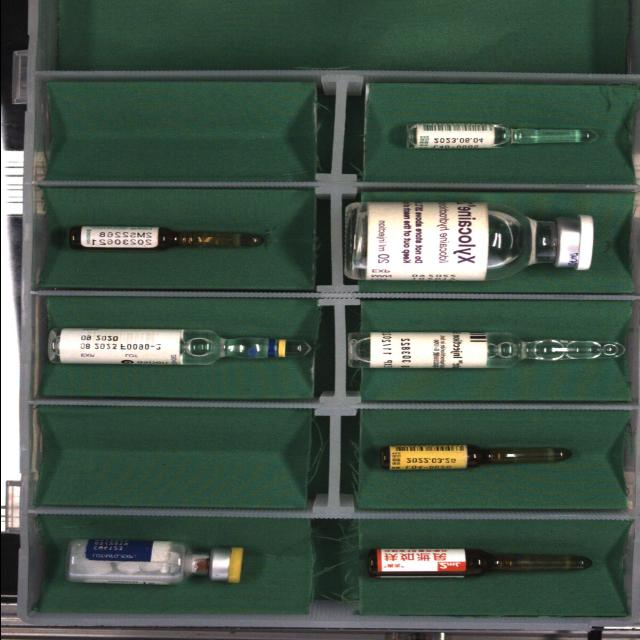Vials: (344, 202, 593, 281), (65, 539, 243, 585)
